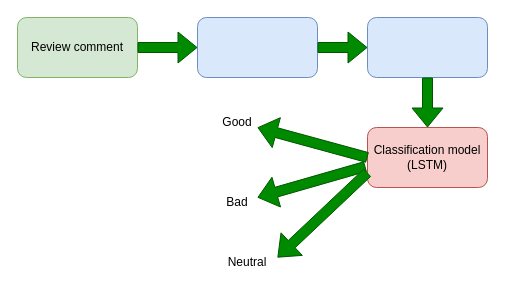
The diagram is 505 pixels wide and 295 high, and some of its shapes have lost their labels. The centre of each missing label's shape, as x and y in pixels:
"Data cleaning (Remove special characters, number, stop word" goes at point 257,47.
"Encode the sentences as interger" goes at point 427,47.
